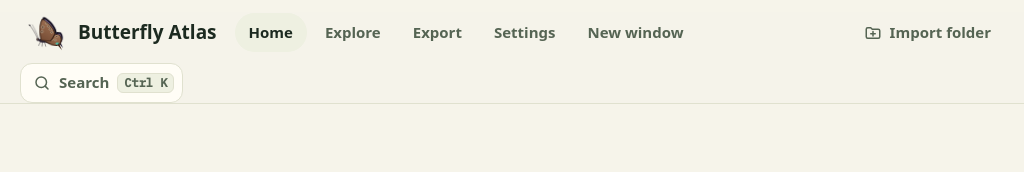
Test: New window sits after Settings and asks the app for a window: "Opening…" until the answer, then a toast
This screenshot has width=1024, height=172.
Click the button "New window" at [636, 33], box [574,13,698,52]
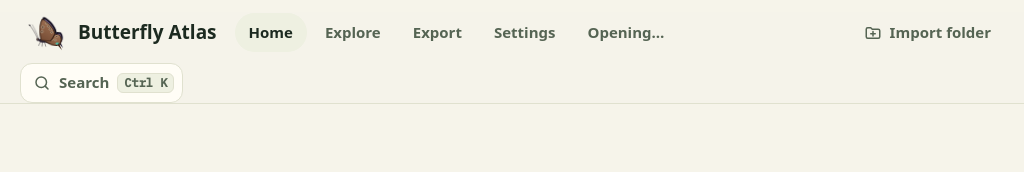
Check: the button named "New window" reads "Opening…"
// pressed again while it waits: nothing more is asked
Click the button named "New window" at [626, 33], box [574,13,678,52]
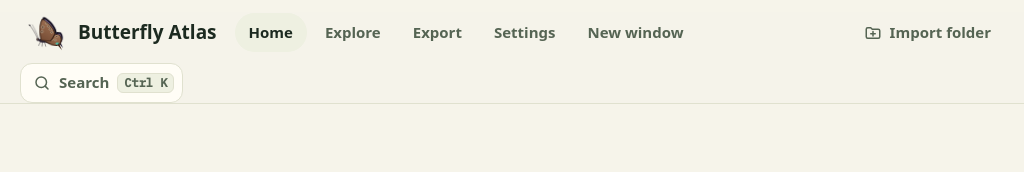
Check: the button "New window" is shown, box [574,13,698,52]
